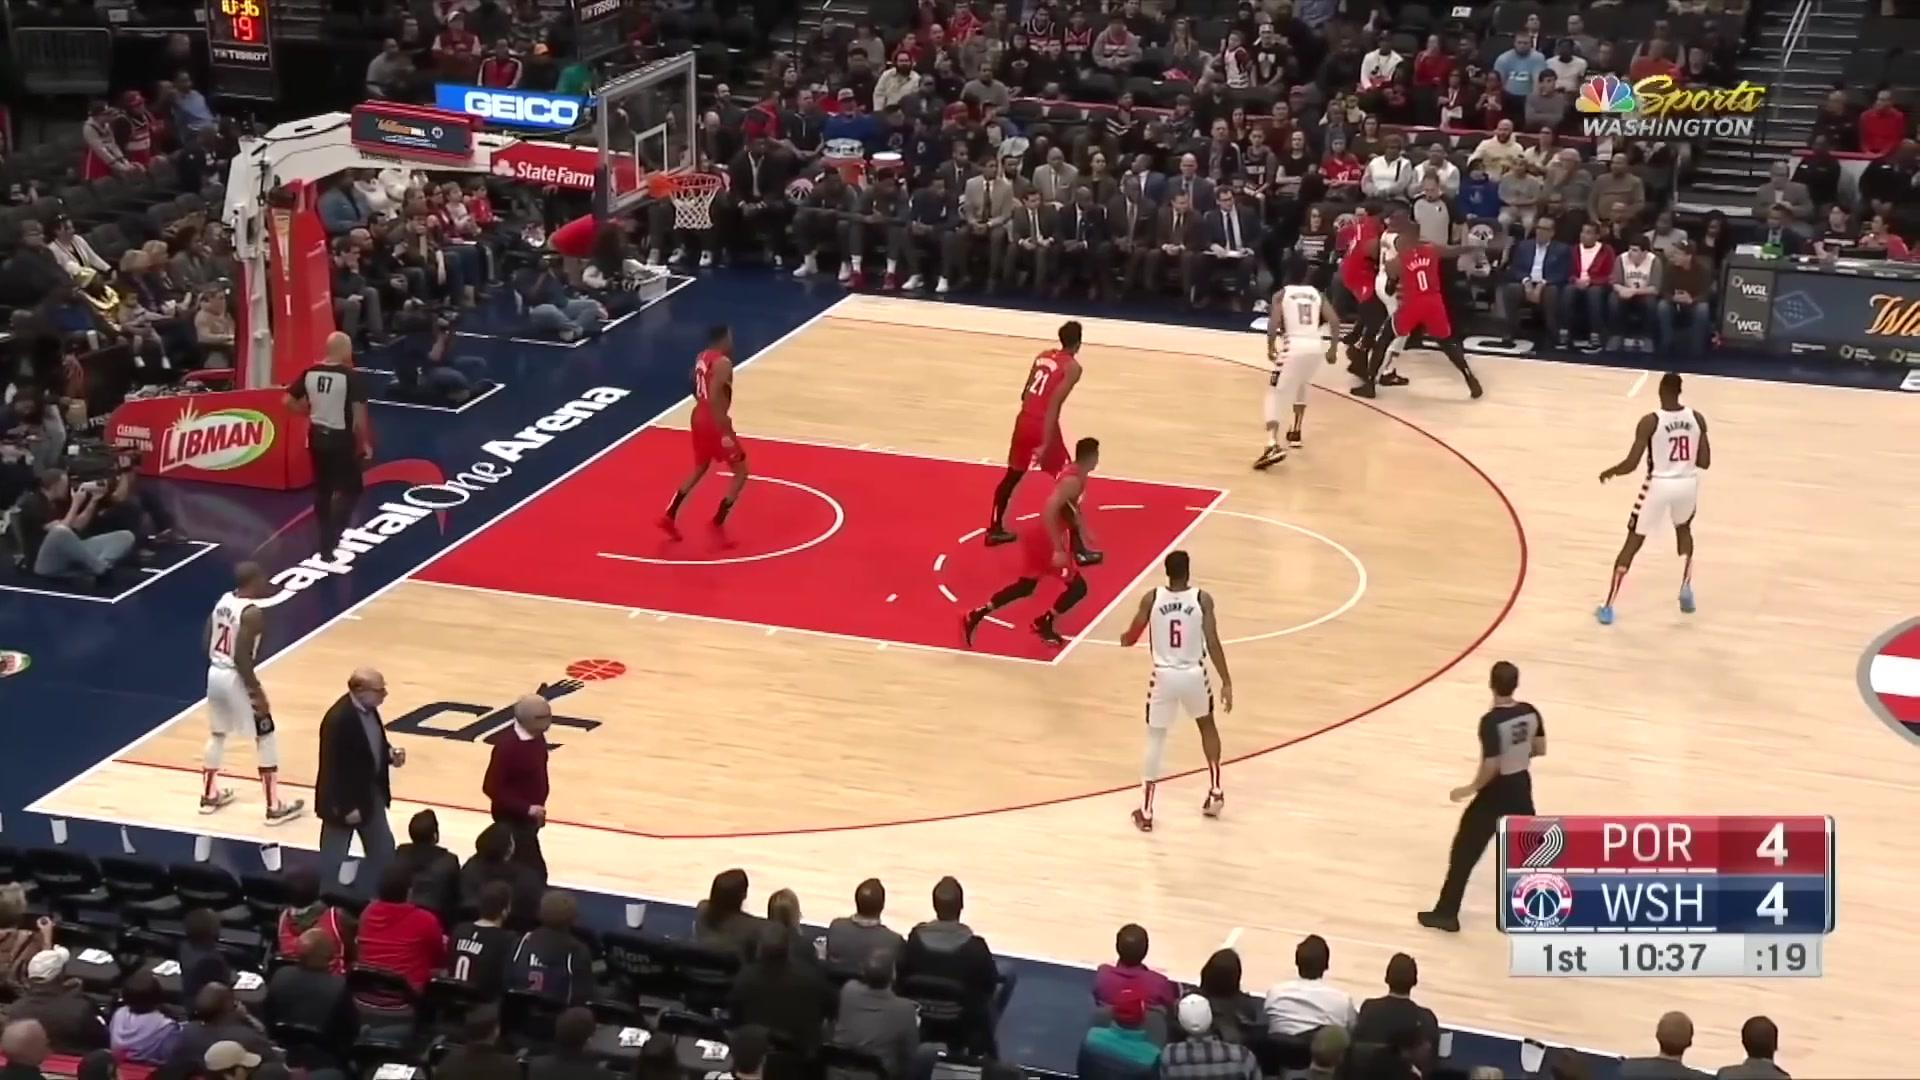foul: (1302, 204, 1498, 407)
